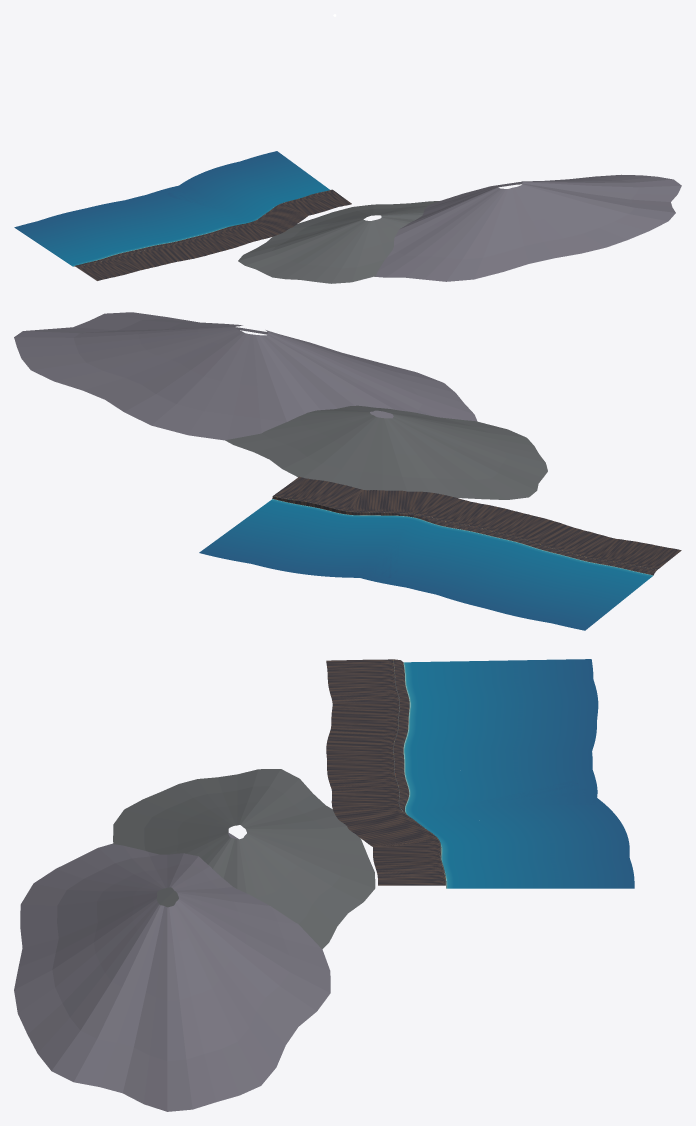
File: kona.glb
3 views of the same model, one above another, from view 1: azimuth 30°, elevation 25°; view 2: azimuth 150°, elevation 25°; view 3: azimuth 270°, elevation 25° (orthographic). The views are drawn at different scales.
Visible parts, largest first — view 1: Peaks, Land_008, Land_001, Land_002, Land_003, Land_000, Land_004, Land_005, Land_009, Land_007, Land_006, Land_010; view 2: Peaks, Land_008, Land_001, Land_002, Land_003, Land_000, Land_005, Land_004, Land_009, Land_007, Land_006, Land_010; view 3: Peaks, Land_008, Land_001, Land_002, Land_000, Land_003, Land_004, Land_005, Land_009, Land_006, Land_007, Land_010.
Boxes of the visible parts, x1,y1,x2,y2 form: Peaks: (238,174,681,283); Land_008: (176,161,311,217); Land_001: (38,212,145,274); Land_002: (70,205,170,268); Land_003: (98,200,199,262); Land_000: (14,221,122,280); Land_004: (125,194,226,256); Land_005: (147,188,251,249); Land_009: (240,157,340,214); Land_007: (167,184,305,230); Land_006: (168,185,285,241); Land_010: (253,151,351,206); Peaks: (14,312,547,499); Land_008: (253,488,370,577); Land_001: (506,538,644,622); Land_002: (469,529,611,613); Land_003: (436,518,577,604); Land_000: (551,543,681,630); Land_005: (374,501,506,587); Land_004: (406,509,543,594); Land_009: (233,479,356,564); Land_007: (350,490,427,577); Land_006: (356,491,468,581); Land_010: (199,476,314,560); Peaks: (14,769,375,1111); Land_008: (370,793,629,856); Land_001: (328,679,598,706); Land_002: (331,705,598,730); Land_000: (326,659,593,684); Land_003: (326,726,596,752); Land_004: (326,748,592,771); Land_005: (327,769,597,792); Land_009: (373,850,632,875); Land_006: (331,780,597,822); Land_007: (342,783,596,844); Land_010: (377,868,634,888).
Size of the model in its own units: 19921 by 3874 by 12418.
